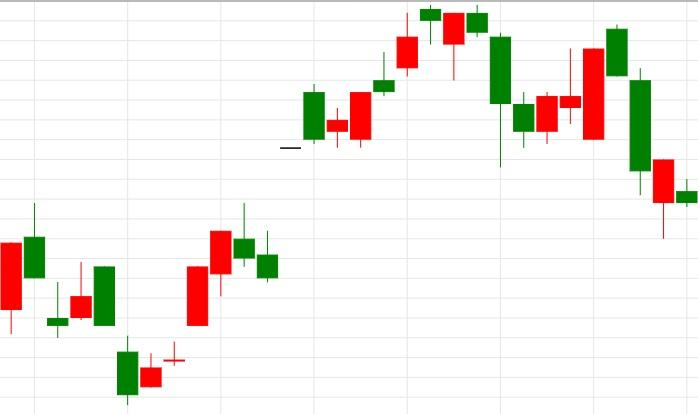three_black_crows_fall: (116, 4, 534, 404)
